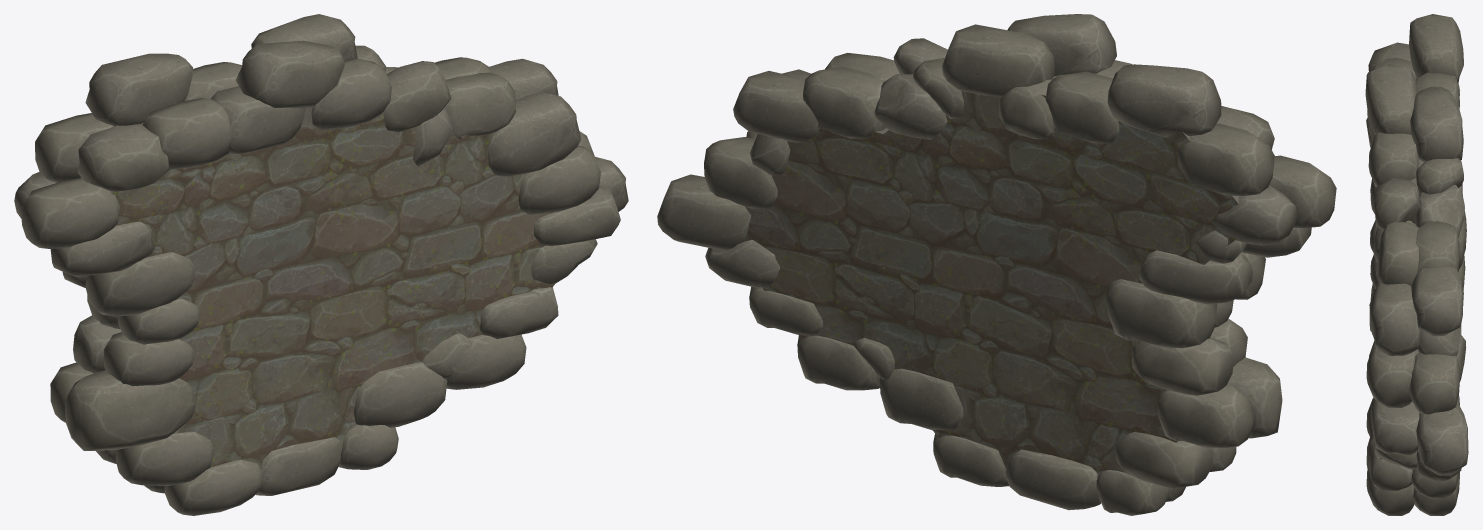
Rendered from SM_FW01_Ruins_Int_Wall_Chunk_01.fbx.
3 views of the same model, side by side, from view 1: azimuth 30°, elevation 25°; view 2: azimuth 150°, elevation 25°; view 3: azimuth 270°, elevation 25° (orthographic). The views are drawn at different scales.
Visible parts, largest first — view 1: SM_FW01_Ruins_Int_Wall_Chunk_01_LOD0, SM_FW01_Ruins_Int_Wall_Chunk_01; view 2: SM_FW01_Ruins_Int_Wall_Chunk_01_LOD0, SM_FW01_Ruins_Int_Wall_Chunk_01; view 3: SM_FW01_Ruins_Int_Wall_Chunk_01_LOD0.
Part boxes in pixels (x1,y1,x2,y2): SM_FW01_Ruins_Int_Wall_Chunk_01_LOD0: (14,14,628,515); SM_FW01_Ruins_Int_Wall_Chunk_01: (80,107,555,467); SM_FW01_Ruins_Int_Wall_Chunk_01_LOD0: (657,14,1336,515); SM_FW01_Ruins_Int_Wall_Chunk_01: (744,76,1238,496); SM_FW01_Ruins_Int_Wall_Chunk_01_LOD0: (1365,14,1468,515).
Size of what is drawn, in the model's own units: 4.27 by 2.94 by 0.6914.
